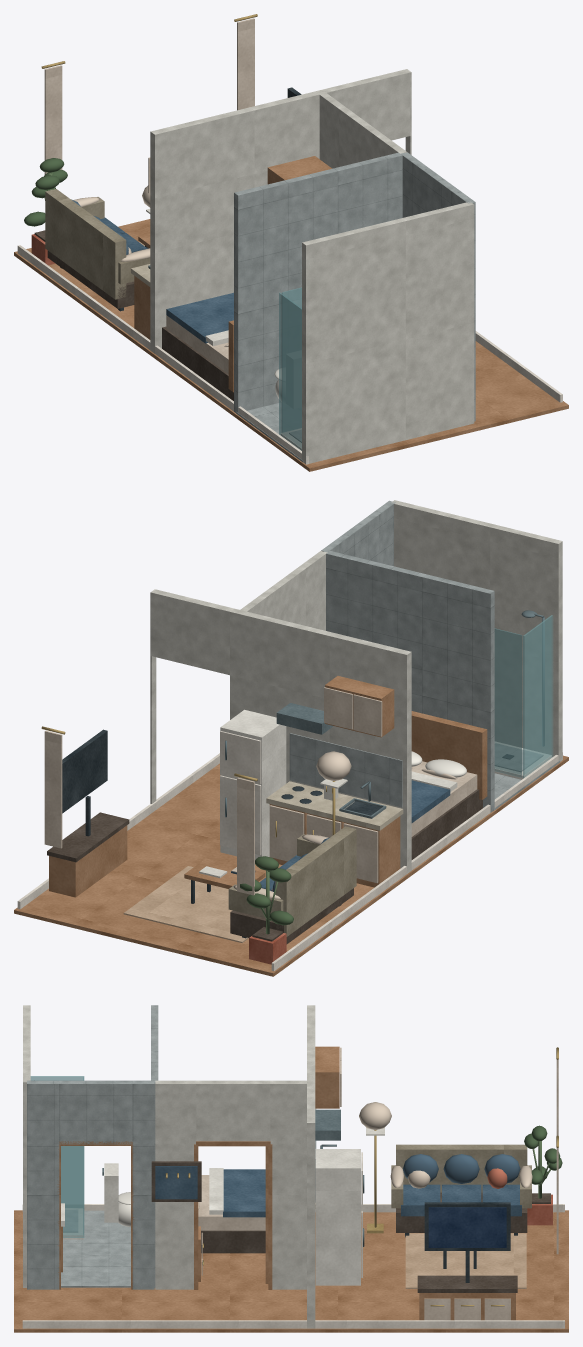
Rendered from Apartment_Unit.glb.
The picture shows the model from 3 angles, top to bottom: view 1: azimuth 30°, elevation 25°; view 2: azimuth 150°, elevation 25°; view 3: azimuth 270°, elevation 25°; orthographic projection. The views are drawn at different scales.
Parts seen in each view (by area): view 1: VIS_Bath_Rear_Divider_wall_0_0_0023, VIS_Bath_Front_Divider_wall_0_0_0017, VIS_Living_Bed_Hall_Divider_wall_0_1_0005, VIS_Living_Bed_Hall_Divider_wall_0_0_0004, VIS_Oak_Floor_Continuous_0000, VIS_Sofa_Back_0029, VIS_Living_Bed_Hall_Divider_wall_1_1_0006, VIS_Shower_SideGlass_0157, VIS_Side_Skirting_0002, VIS_Shower_FrontGlass_0159, VIS_Quilt_Folded_0135, VIS_Room_Hall_Divider_wall_1_1_0011 (+12 smaller); view 2: VIS_Bath_Rear_Divider_wall_0_0_0023, VIS_Bath_Front_Divider_wall_0_0_0017, VIS_Oak_Floor_Continuous_0000, VIS_Living_Bed_Hall_Divider_wall_0_1_0005, VIS_Living_Bed_Hall_Divider_wall_0_0_0004, VIS_Living_Bed_Hall_Divider_wall_1_1_0006, VIS_Sofa_Back_0029, VIS_Kitchen_Backsplash_0094, VIS_Living_Rug_0027, VIS_Shower_SideGlass_0157, VIS_Shower_FrontGlass_0159, VIS_Bed_Headboard_0133 (+32 smaller); view 3: VIS_Oak_Floor_Continuous_0000, VIS_Fridge_Carcass_0113, VIS_Room_Hall_Divider_wall_0_0_0009, VIS_Bath_Hall_Divider_wall_2_0_0021, VIS_Side_Skirting_0003, VIS_Bath_Hall_Divider_wall_1_1_0020, VIS_Room_Hall_Divider_wall_1_1_0011, VIS_Bath_Tile_Floor_0001, VIS_Room_Hall_Divider_wall_2_0_0012, VIS_Living_Rug_0027, VIS_TV_Display_0063, VIS_Bath_Hall_Divider_wall_0_0_0018 (+41 smaller).
Boxes of the visible parts, x1,y1,x2,y2 form: VIS_Bath_Rear_Divider_wall_0_0_0023: (302, 201, 474, 464); VIS_Bath_Front_Divider_wall_0_0_0017: (234, 152, 405, 412); VIS_Living_Bed_Hall_Divider_wall_0_1_0005: (150, 88, 331, 197); VIS_Living_Bed_Hall_Divider_wall_0_0_0004: (150, 158, 319, 353); VIS_Oak_Floor_Continuous_0000: (14, 219, 568, 471); VIS_Sofa_Back_0029: (45, 189, 126, 299); VIS_Living_Bed_Hall_Divider_wall_1_1_0006: (328, 69, 410, 140); VIS_Shower_SideGlass_0157: (279, 292, 301, 450); VIS_Side_Skirting_0002: (17, 245, 308, 464); VIS_Shower_FrontGlass_0159: (282, 287, 301, 432); VIS_Quilt_Folded_0135: (166, 292, 233, 343); VIS_Room_Hall_Divider_wall_1_1_0011: (339, 107, 384, 166); VIS_Bath_Rear_Divider_wall_0_0_0023: (392, 500, 562, 761); VIS_Bath_Front_Divider_wall_0_0_0017: (324, 550, 494, 812); VIS_Oak_Floor_Continuous_0000: (14, 755, 568, 976); VIS_Living_Bed_Hall_Divider_wall_0_1_0005: (230, 608, 411, 718); VIS_Living_Bed_Hall_Divider_wall_0_0_0004: (230, 675, 411, 873); VIS_Living_Bed_Hall_Divider_wall_1_1_0006: (152, 589, 233, 675); VIS_Sofa_Back_0029: (275, 826, 356, 936); VIS_Kitchen_Backsplash_0094: (289, 733, 402, 807); VIS_Living_Rug_0027: (123, 866, 248, 942); VIS_Shower_SideGlass_0157: (523, 615, 552, 778); VIS_Shower_FrontGlass_0159: (494, 628, 522, 777); VIS_Bed_Headboard_0133: (411, 711, 487, 799); VIS_Oak_Floor_Continuous_0000: (14, 1210, 568, 1332); VIS_Fridge_Carcass_0113: (315, 1149, 360, 1285); VIS_Room_Hall_Divider_wall_0_0_0009: (271, 1143, 306, 1289); VIS_Bath_Hall_Divider_wall_2_0_0021: (27, 1144, 59, 1289); VIS_Side_Skirting_0003: (22, 1320, 564, 1328); VIS_Bath_Hall_Divider_wall_1_1_0020: (59, 1080, 132, 1144); VIS_Room_Hall_Divider_wall_1_1_0011: (196, 1080, 270, 1141); VIS_Bath_Tile_Floor_0001: (61, 1210, 130, 1287); VIS_Room_Hall_Divider_wall_2_0_0012: (155, 1143, 195, 1289); VIS_Living_Rug_0027: (405, 1233, 526, 1288); VIS_TV_Display_0063: (428, 1207, 506, 1247); VIS_Bath_Hall_Divider_wall_0_0_0018: (132, 1144, 154, 1289).
Size of the model in its own units: 3.79 by 3.05 by 7.34.
19 materials, 19 textured.
